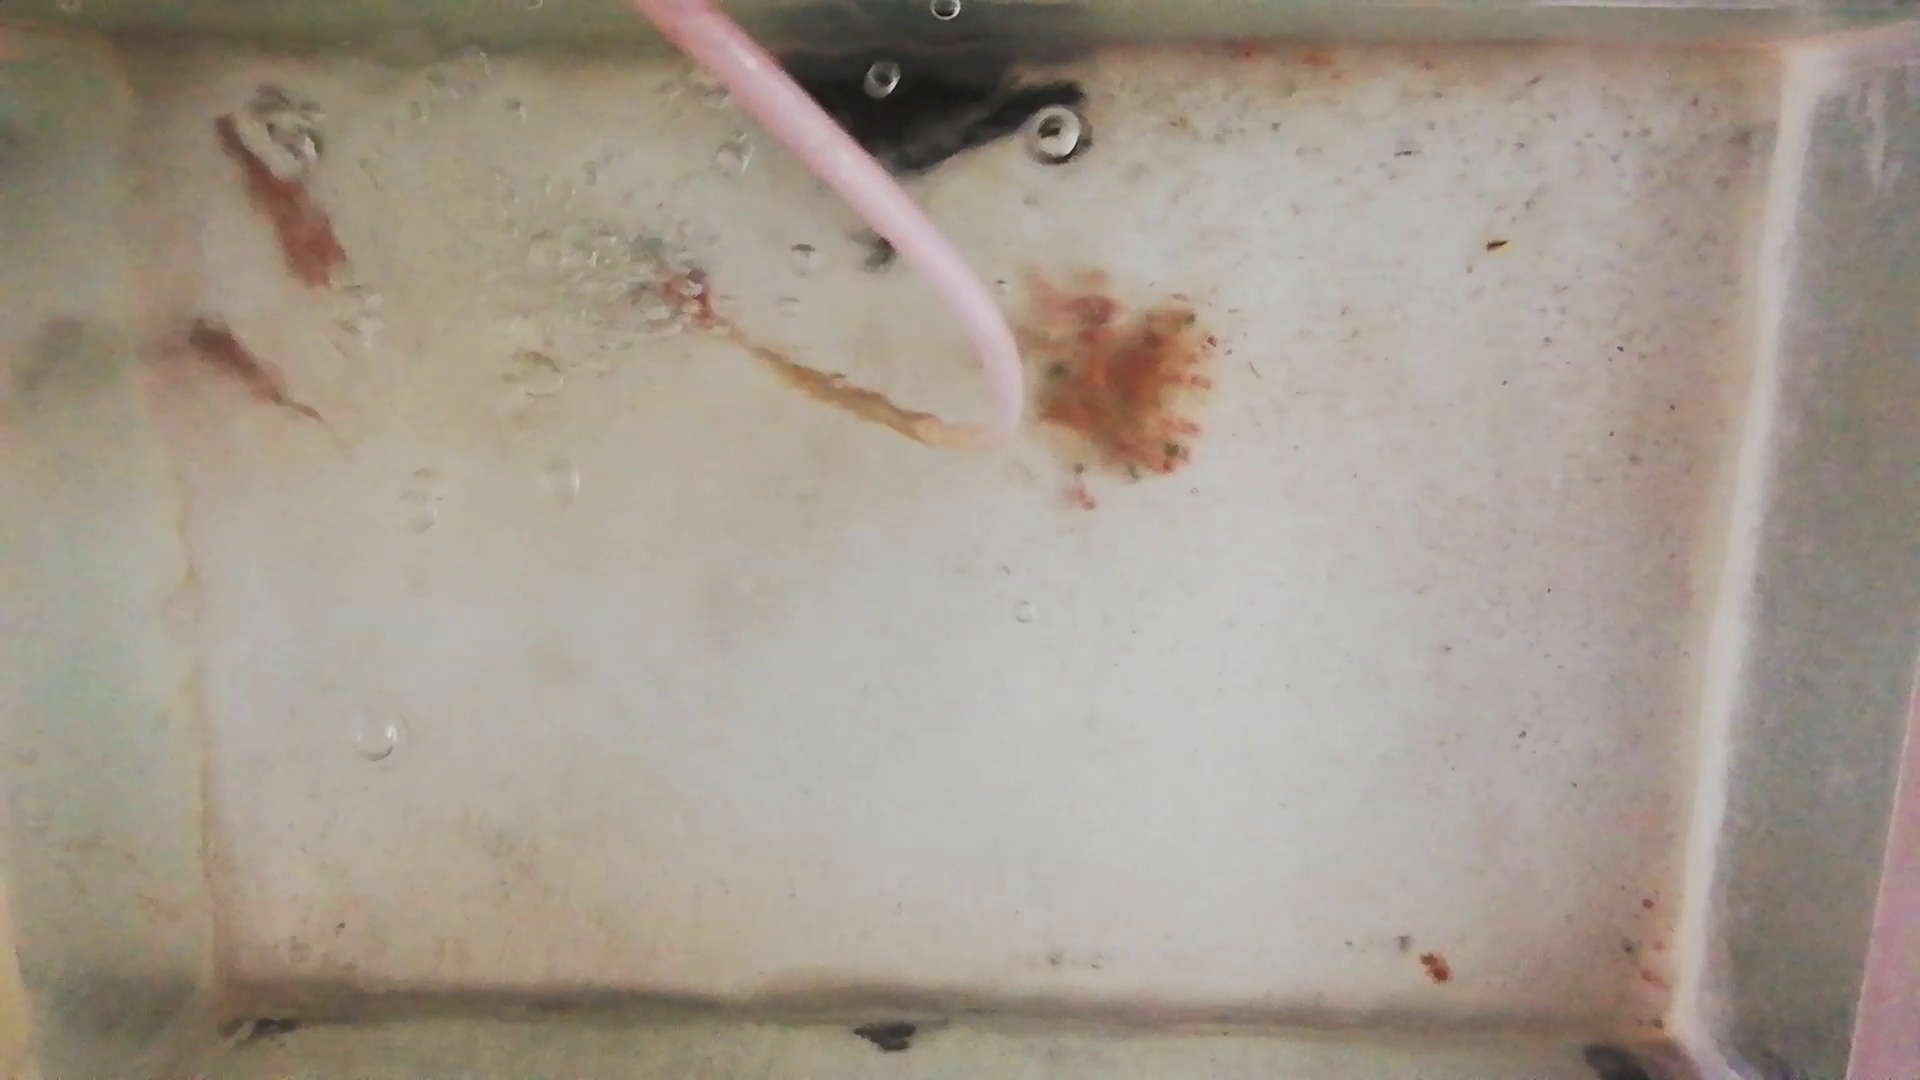fish: (215, 105, 343, 294), (174, 307, 324, 415)
